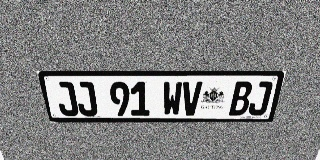1: (129, 82, 149, 116)
9: (109, 82, 131, 116)
B: (229, 81, 254, 115)
J: (53, 82, 79, 116), (247, 81, 273, 115), (74, 82, 98, 116)
V: (181, 81, 202, 116)
W: (163, 82, 182, 116)
